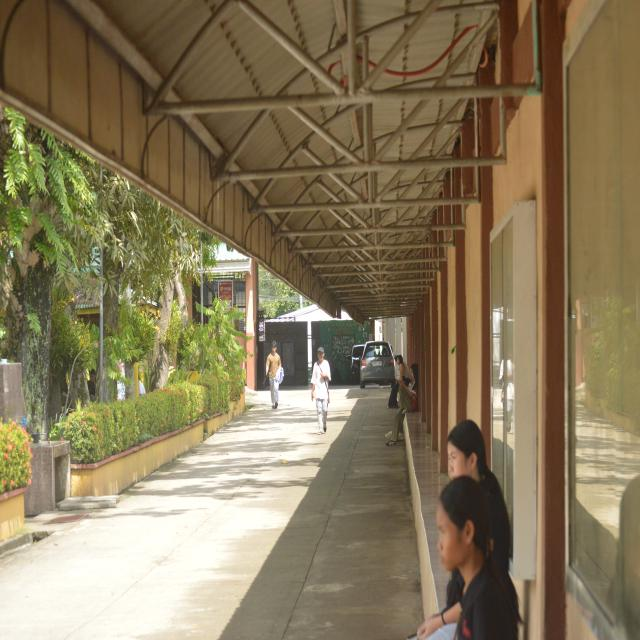person: (432, 476, 520, 639), (448, 420, 517, 608), (311, 347, 331, 434), (266, 342, 281, 408)
